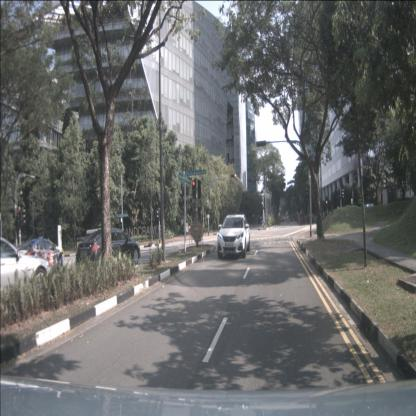vehicle-car: (0, 237, 51, 298), (76, 228, 140, 270), (14, 238, 63, 273), (217, 214, 250, 258)
